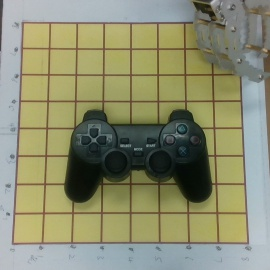remote: (64, 107, 212, 204)
